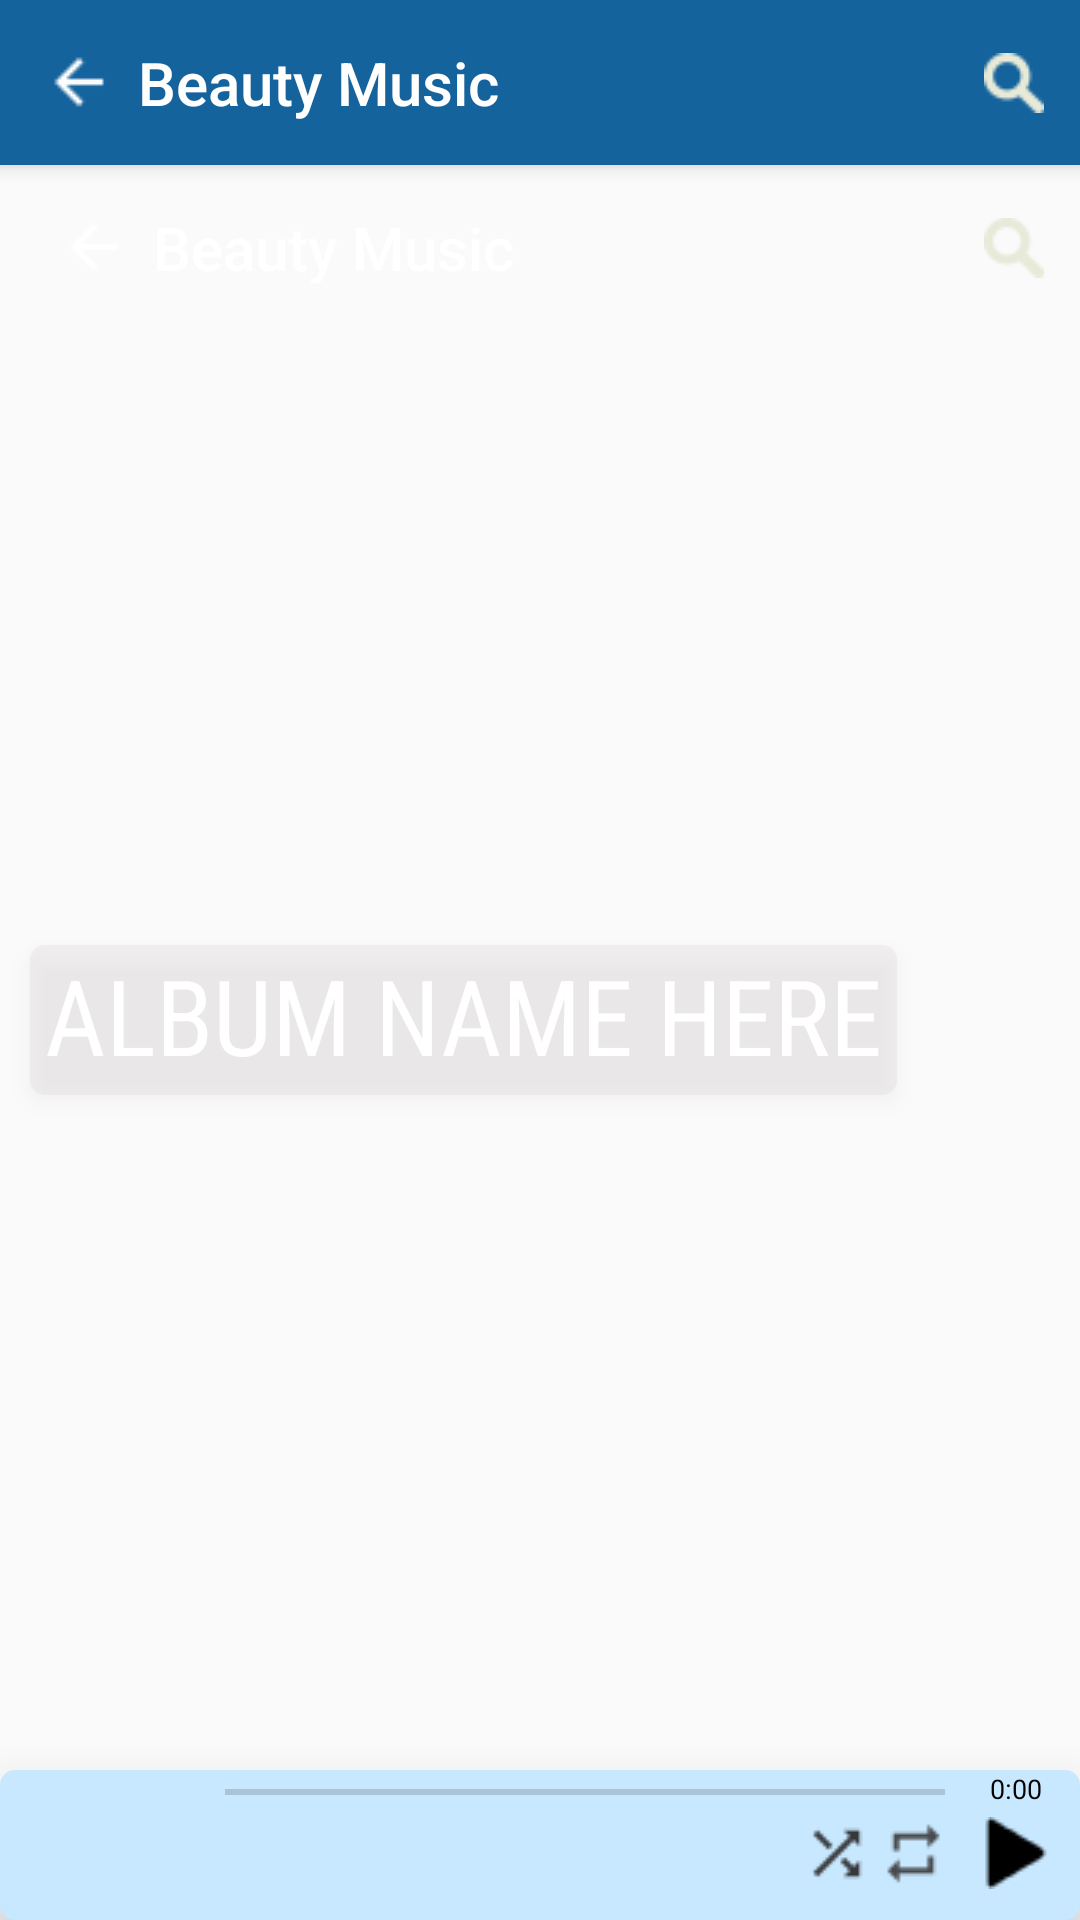

Icons on this 1080 × 1920 Android screen, each with its box as box(x1, y1, x2, y2):
back: box(54, 57, 104, 107)
search: box(984, 53, 1044, 113), box(984, 218, 1044, 278)
